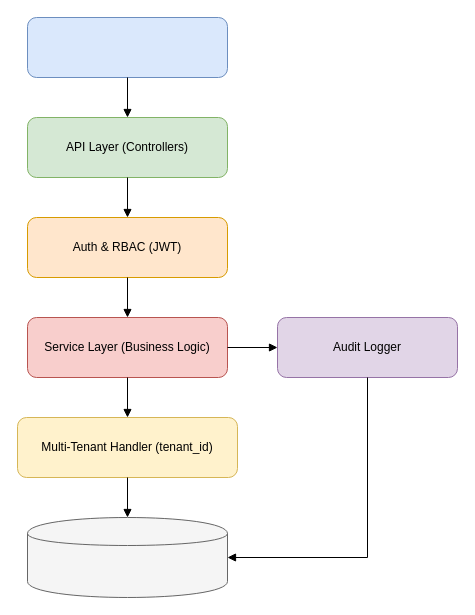
This 475x615 diagram has some shape labels left out. The shapes that lost their labels are listed below. From the top down, each one's box as (x1, y1, x2, y2) in pixels, then its label:
(26, 16, 228, 78): Client (Postman)
(26, 516, 228, 598): Database (PostgreSQL)
